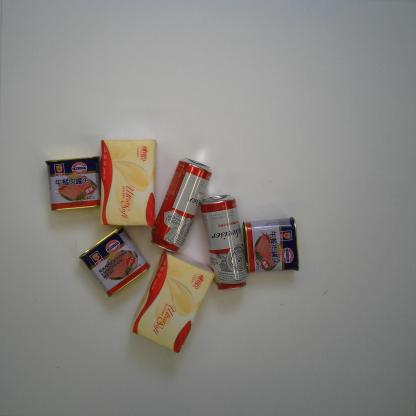Alcohol: (150, 157, 214, 254), (200, 193, 248, 292)
Canned Food: (78, 225, 151, 298), (242, 216, 300, 274), (44, 156, 101, 212)
Tissue: (130, 248, 216, 354), (98, 137, 156, 228)
